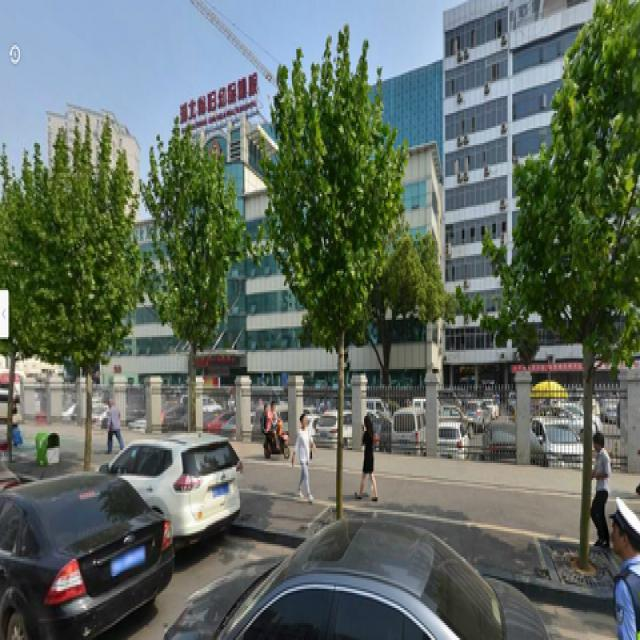meta: (262, 38, 390, 491)
